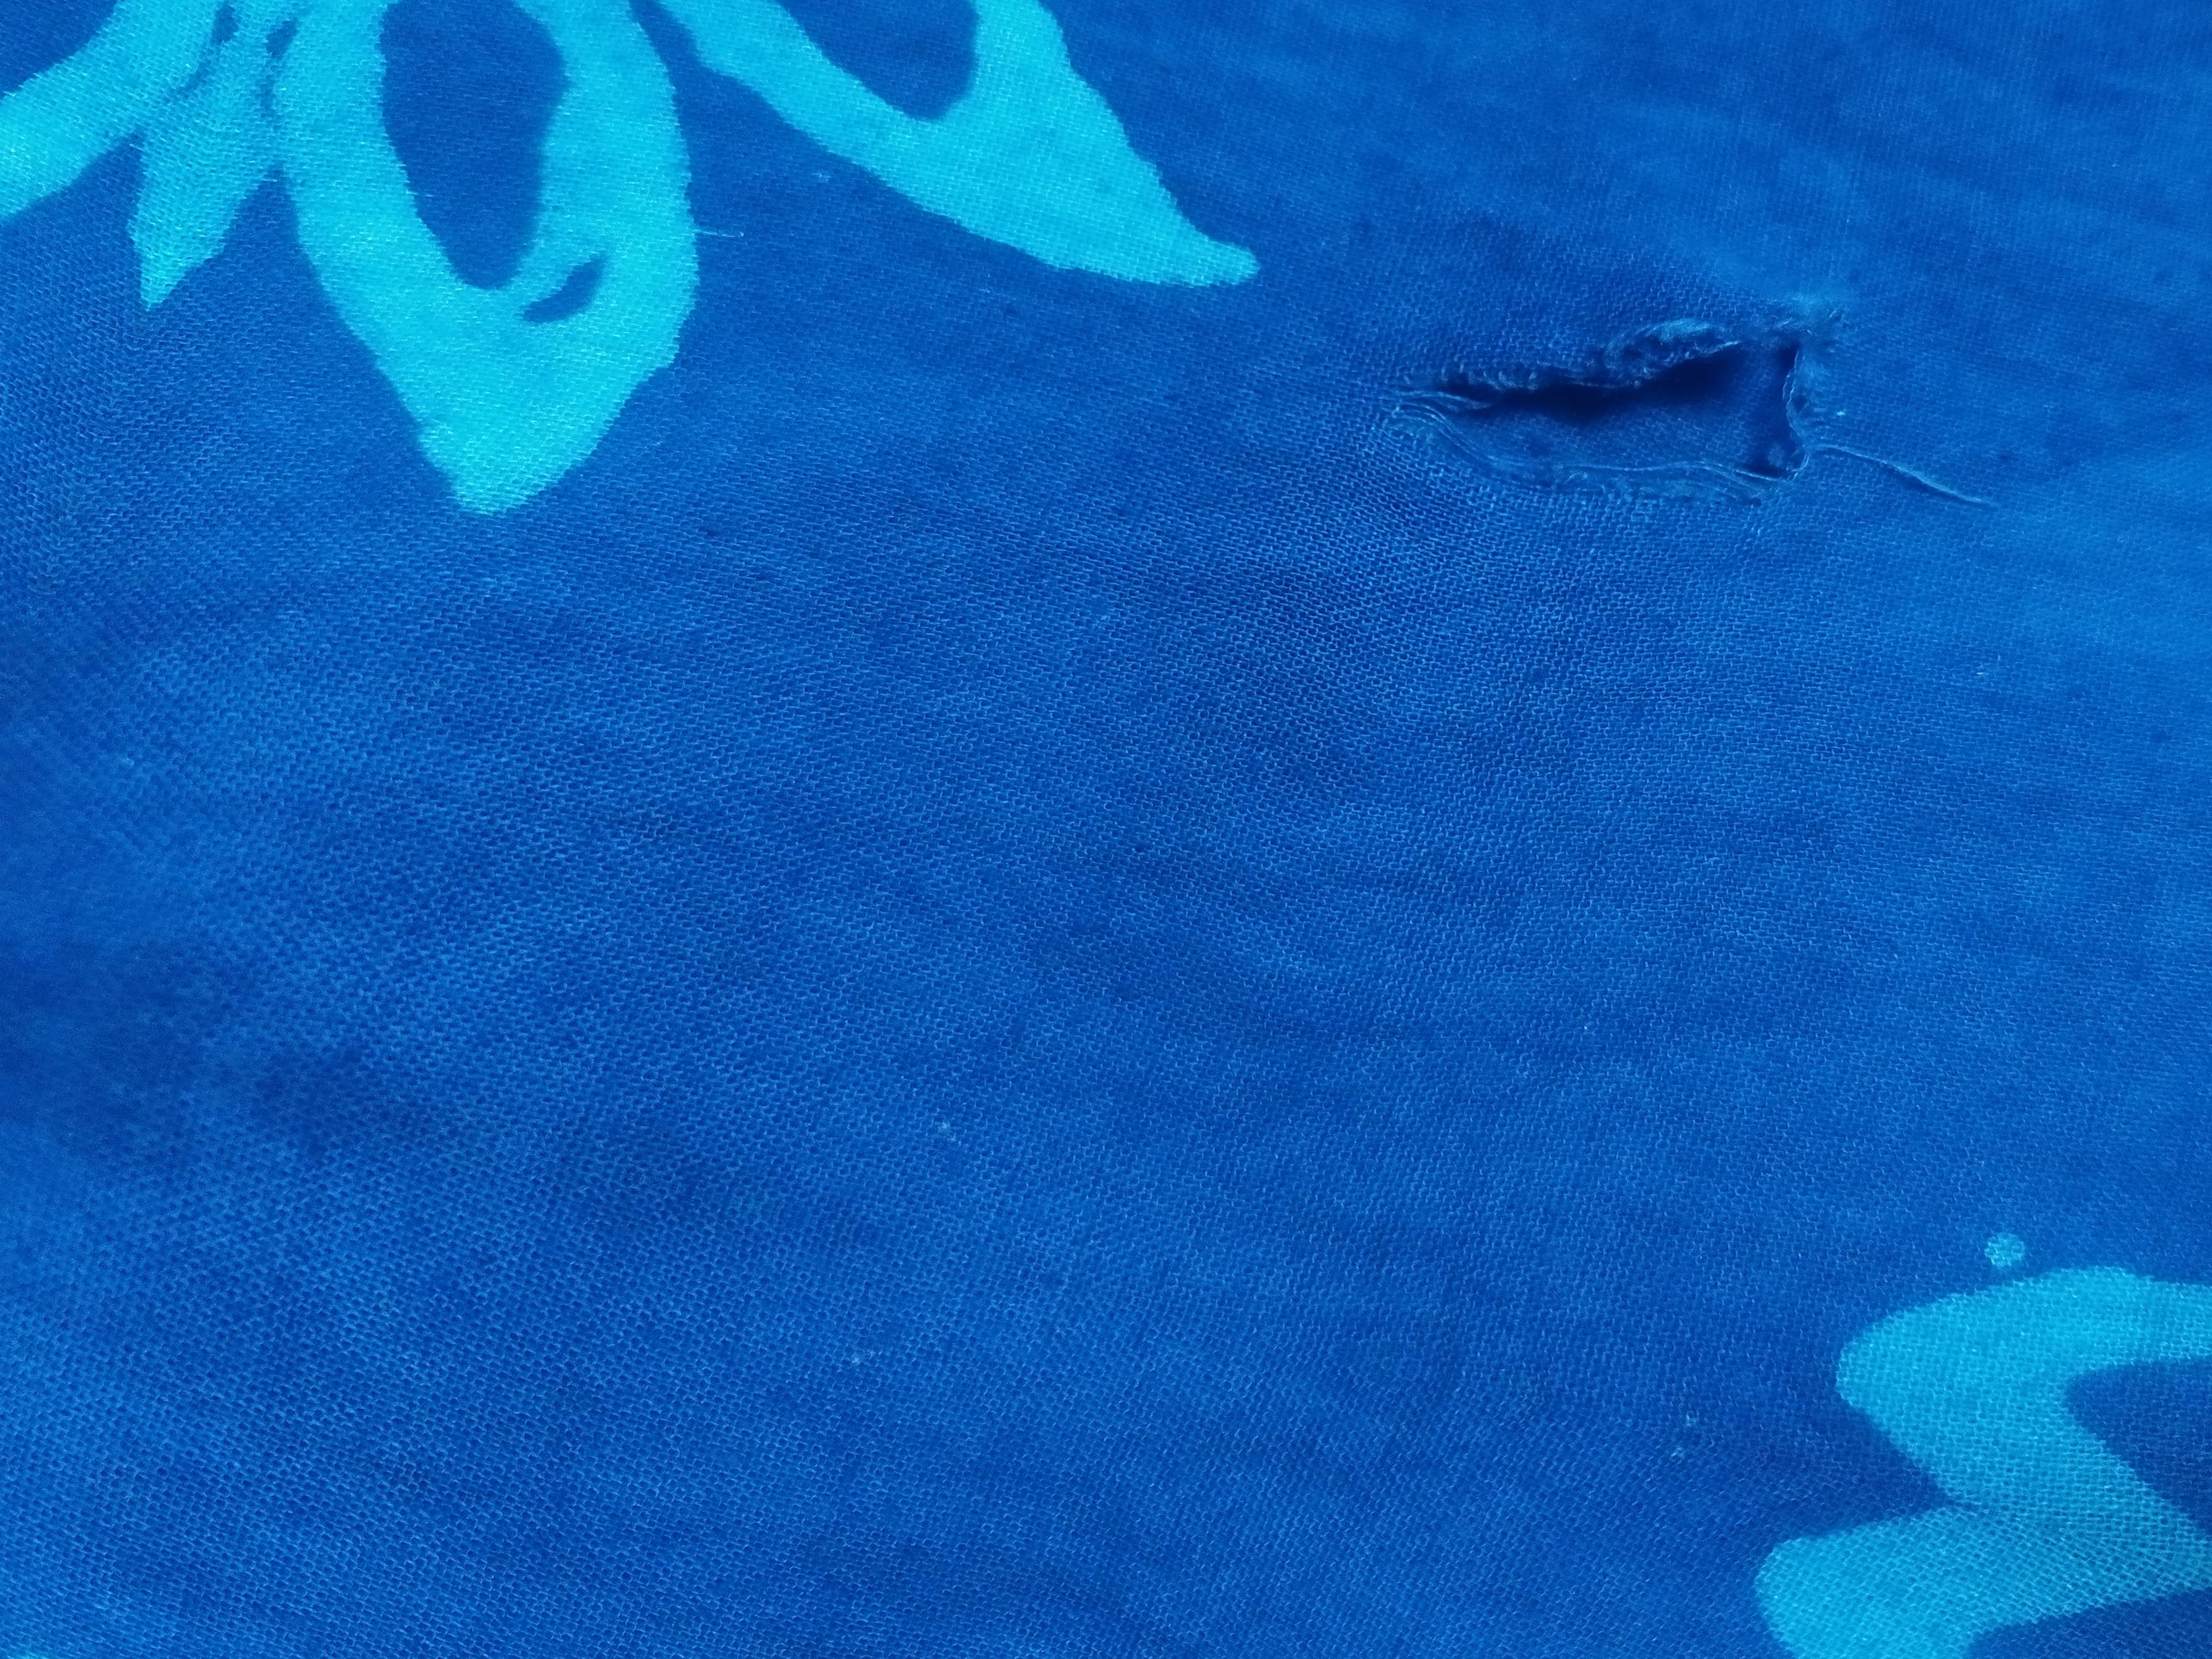hole: (1409, 291, 1865, 497)
